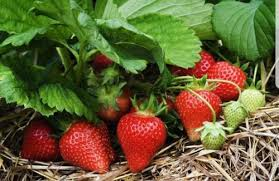Fresa: (56, 113, 120, 176), (114, 106, 171, 176), (172, 82, 225, 142), (18, 115, 62, 163), (204, 59, 249, 103)
